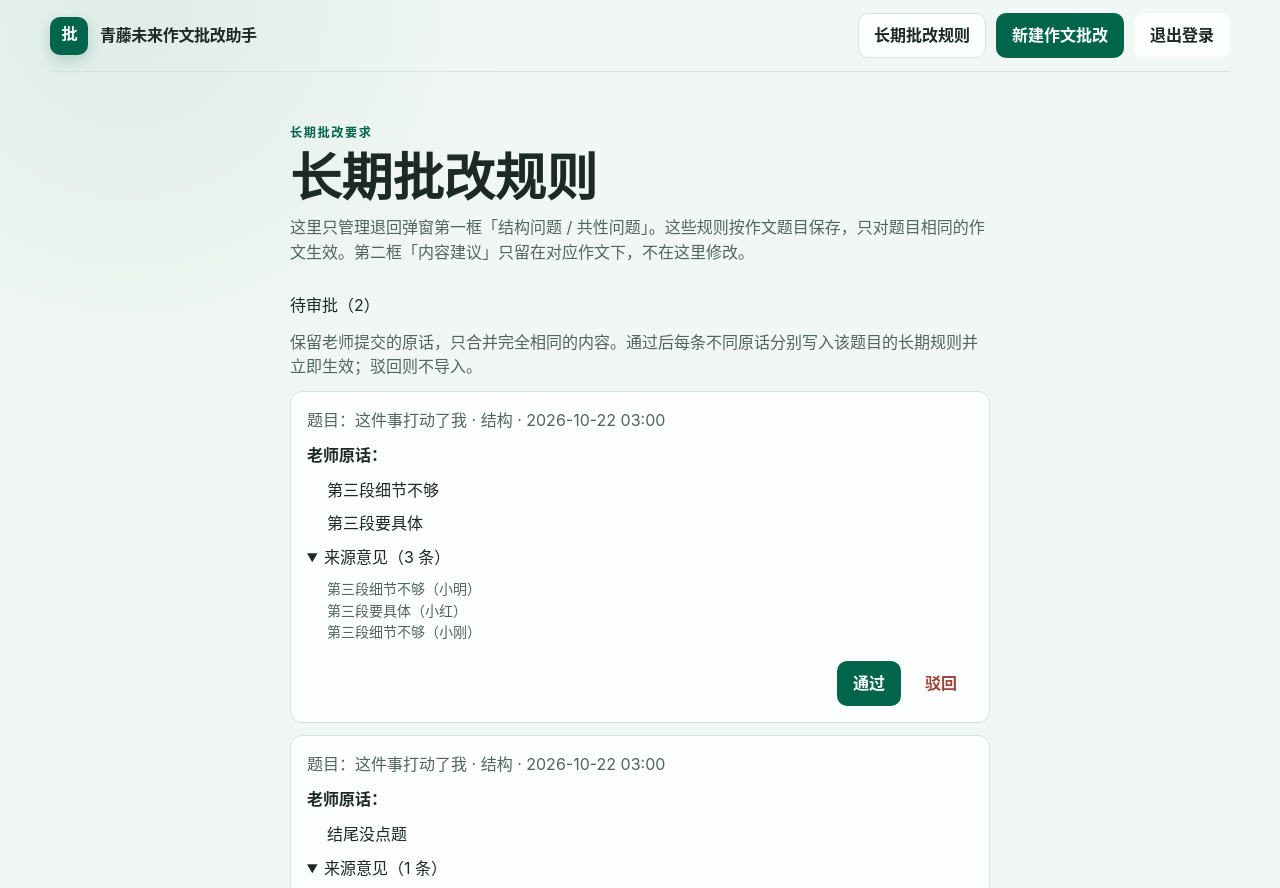
Test: 长期批改规则页 › 旧候选以不同老师原话为主文案，通过后每条原话入库，驳回则移除
Expected: the element named "候选规则：第三段细节不够 第三段要具体" does not show "第三段要写出被打动的细节。", [290,391,990,723]
Expected: the element named "候选规则：第三段细节不够 第三段要具体" shows "第三段细节不够（小明）", [290,391,990,723]
Click the button "通过" at x=869, y=684, box [837,661,901,706]
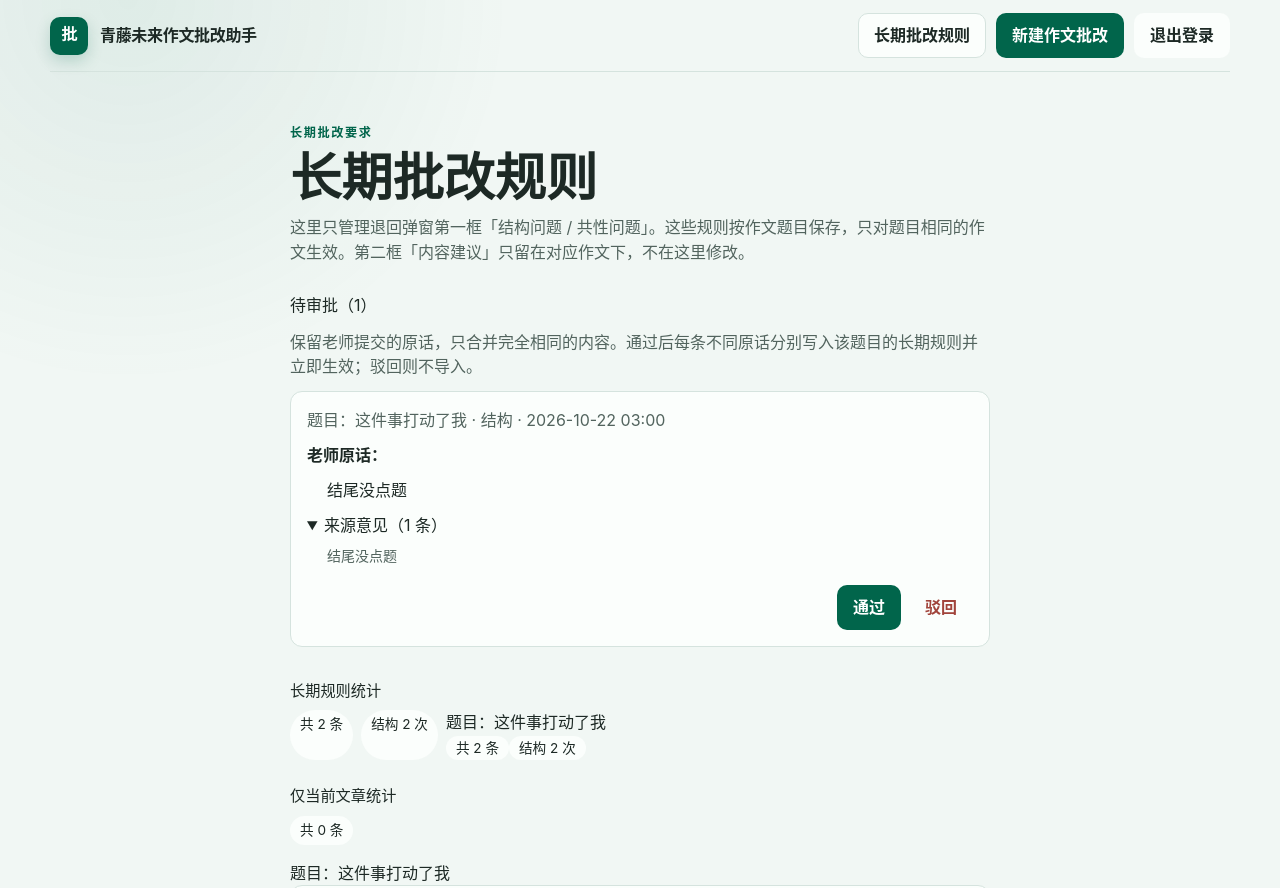
Click the button "驳回" at x=941, y=607, box [909,585,973,630]
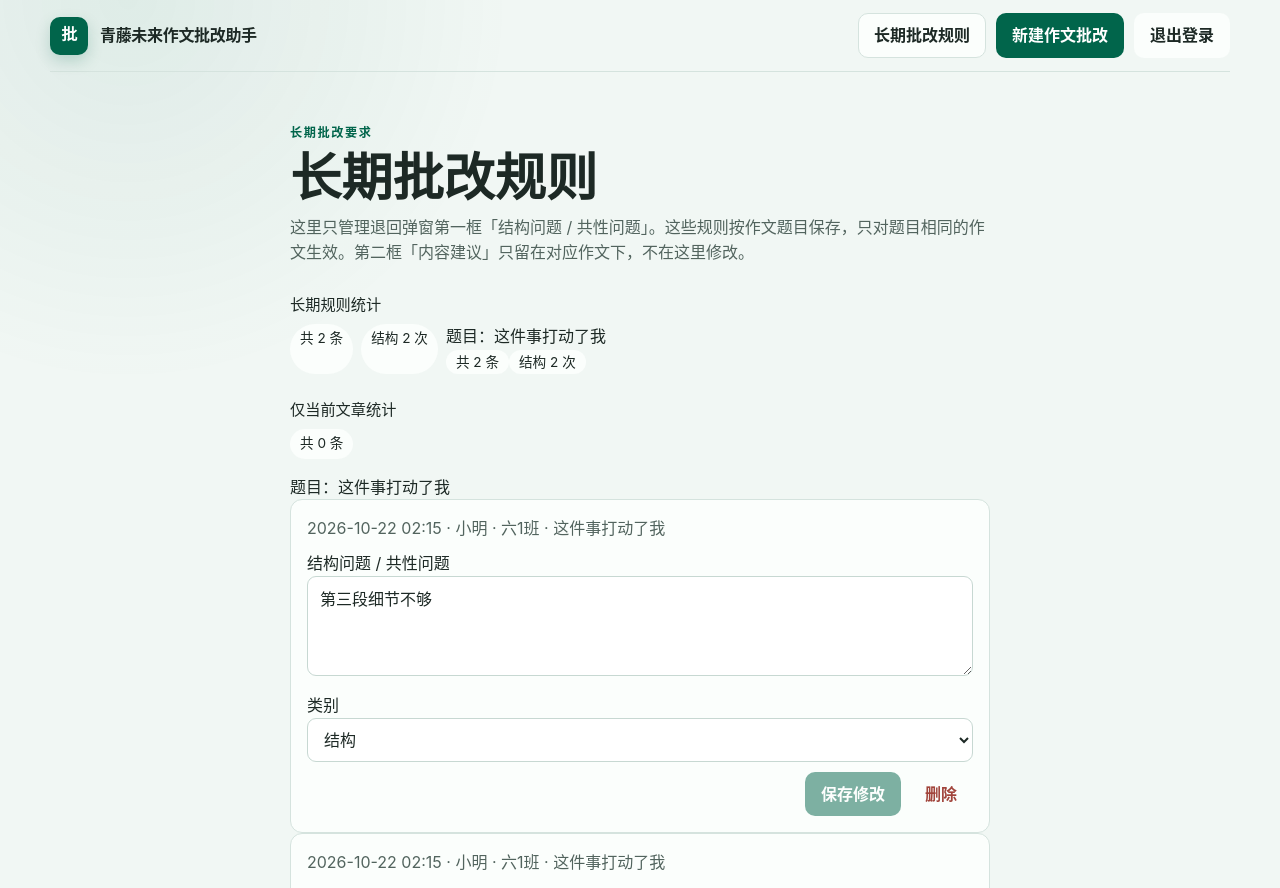
Now the element "待审批的候选规则" is gone
